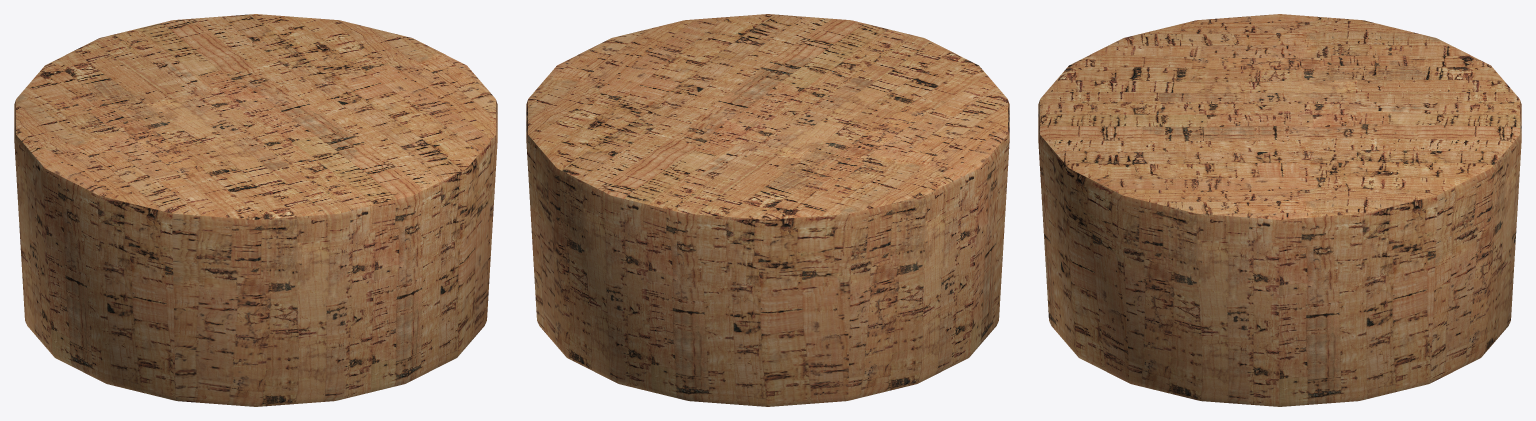
The model's file is Cork_V2.fbx.
3 renders of one model, left to right at view 1: azimuth 30°, elevation 25°; view 2: azimuth 150°, elevation 25°; view 3: azimuth 270°, elevation 25°, orthographic.
Parts seen in each view (by area): view 1: cork stopper; view 2: cork stopper; view 3: cork stopper.
Part boxes in pixels (x1,y1,x2,y2): cork stopper: [14, 14, 497, 406]; cork stopper: [526, 14, 1009, 406]; cork stopper: [1038, 14, 1521, 406].
Bounding box in the file's own units: 6.14 × 2.7 × 6.05.
Materials: 1 (1 with a texture image).
